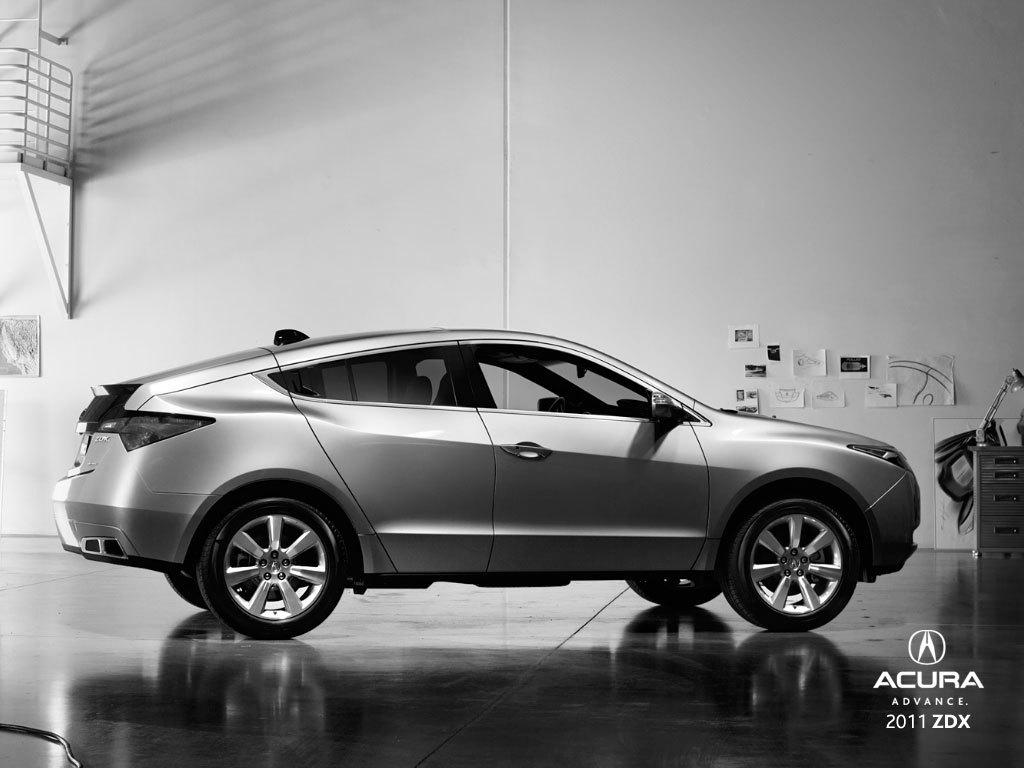car: (49, 322, 925, 646)
